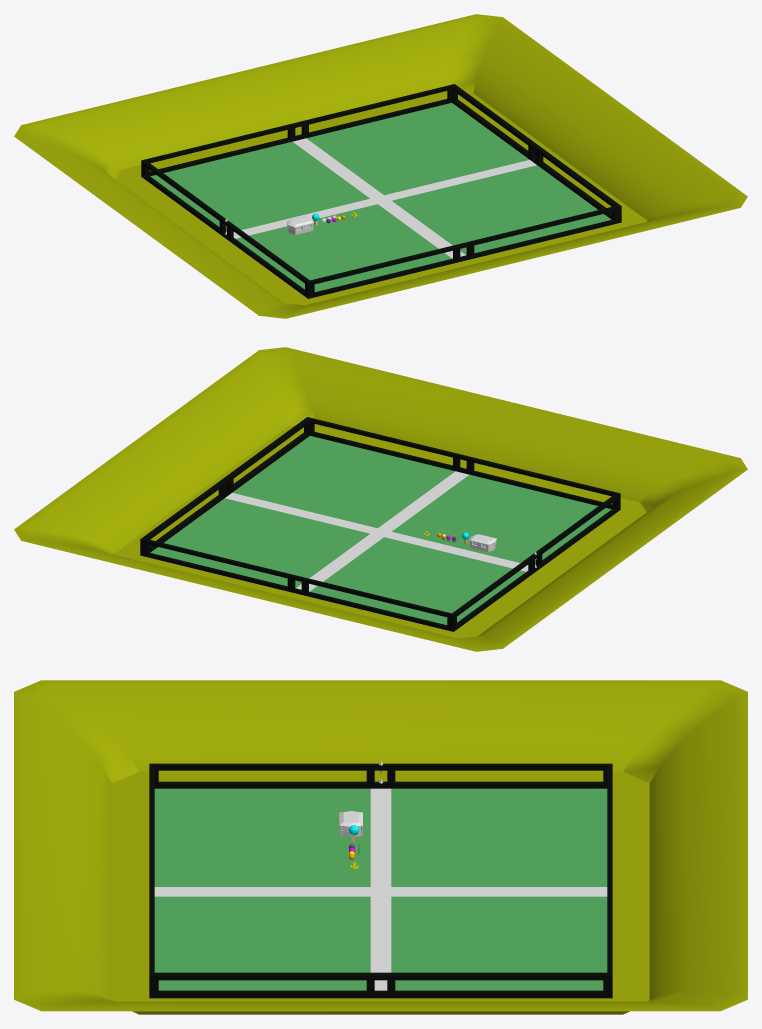
File: Level_for_uv_fixed.fbx
The picture shows the model from 3 angles, top to bottom: view 1: azimuth 30°, elevation 25°; view 2: azimuth 150°, elevation 25°; view 3: azimuth 270°, elevation 25°; orthographic projection. The views are drawn at different scales.
Parts seen in each view (by area): view 1: Out_of_level, Level_base; view 2: Out_of_level, Level_base; view 3: Out_of_level, Level_base.
Boxes of the visible parts, x1,y1,x2,y2 form: Out_of_level: [14, 14, 747, 318]; Level_base: [141, 84, 621, 298]; Out_of_level: [14, 347, 747, 651]; Level_base: [140, 417, 620, 631]; Out_of_level: [14, 680, 747, 1014]; Level_base: [149, 763, 612, 998].
Size of the model in its own units: 31.61 by 2.12 by 29.64.
